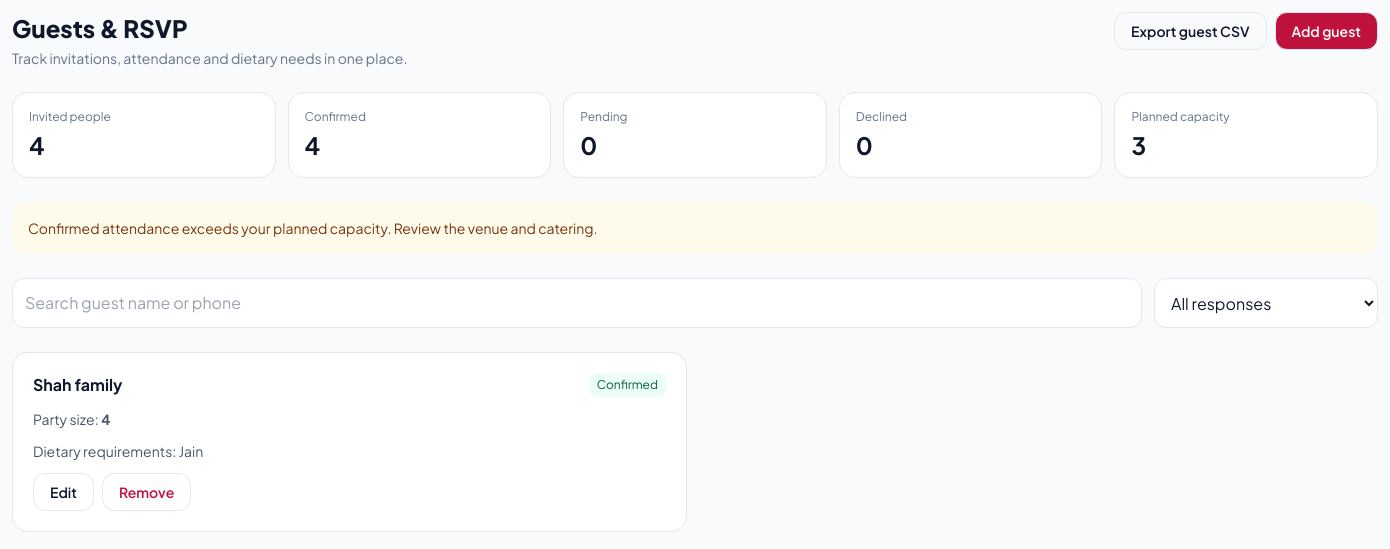
Test case: Guest workspace › shows capacity warnings and filters guests by search and RSVP
This screenshot has width=1390, height=549.
Expected: the heading "Shah family" is shown, [33,373,122,397]
Expected: the text "Confirmed attendance exceeds" is shown, [28,219,598,237]
Type "Missing" into the search field at x=577, y=303, box [12,278,1142,328]
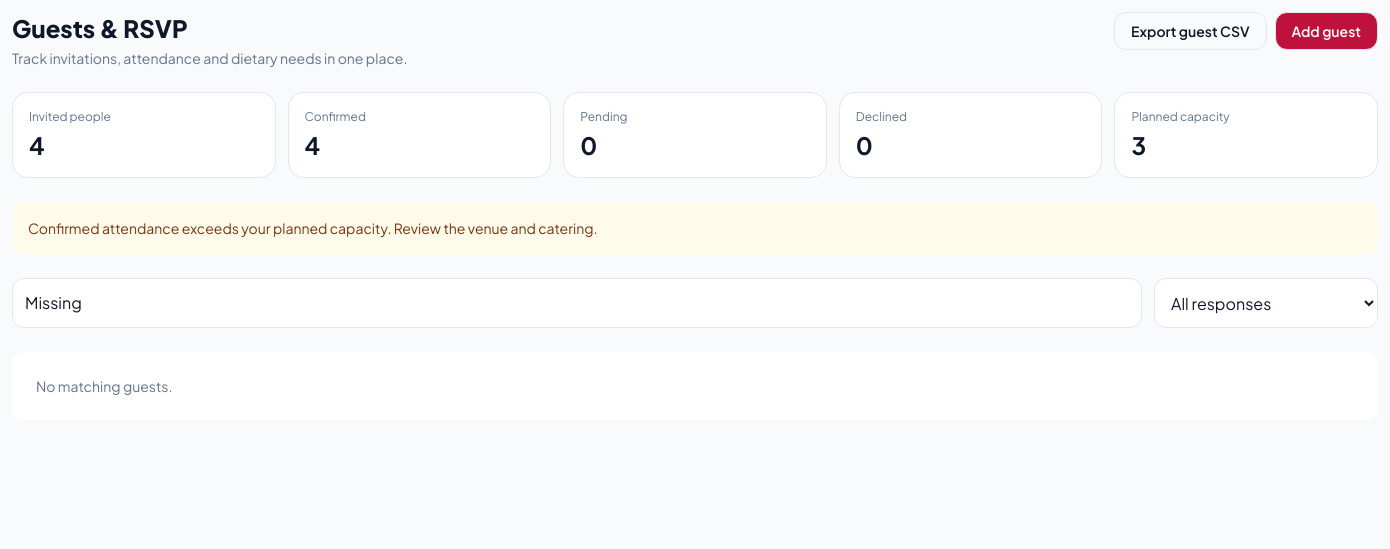
Now the text "No matching guests." is shown, box [12,352,1378,420]
Clear the search field at x=577, y=303, box [12,278,1142,328]
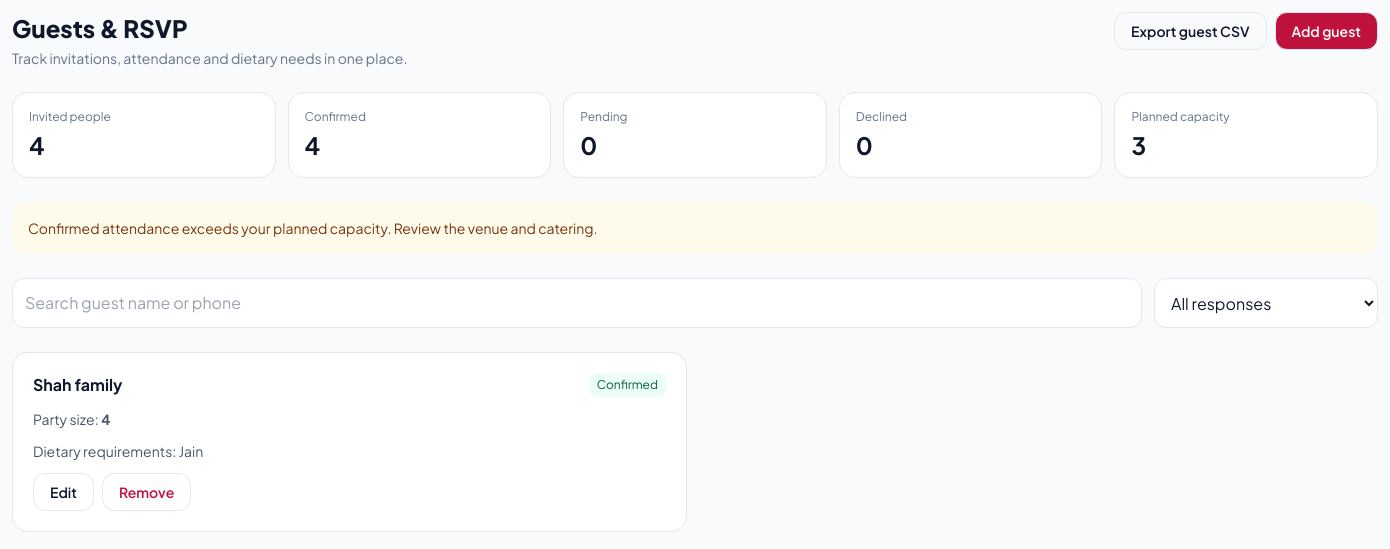
Select "Declined" in the dropdown named "RSVP status" at x=1266, y=303, box [1154,278,1378,328]
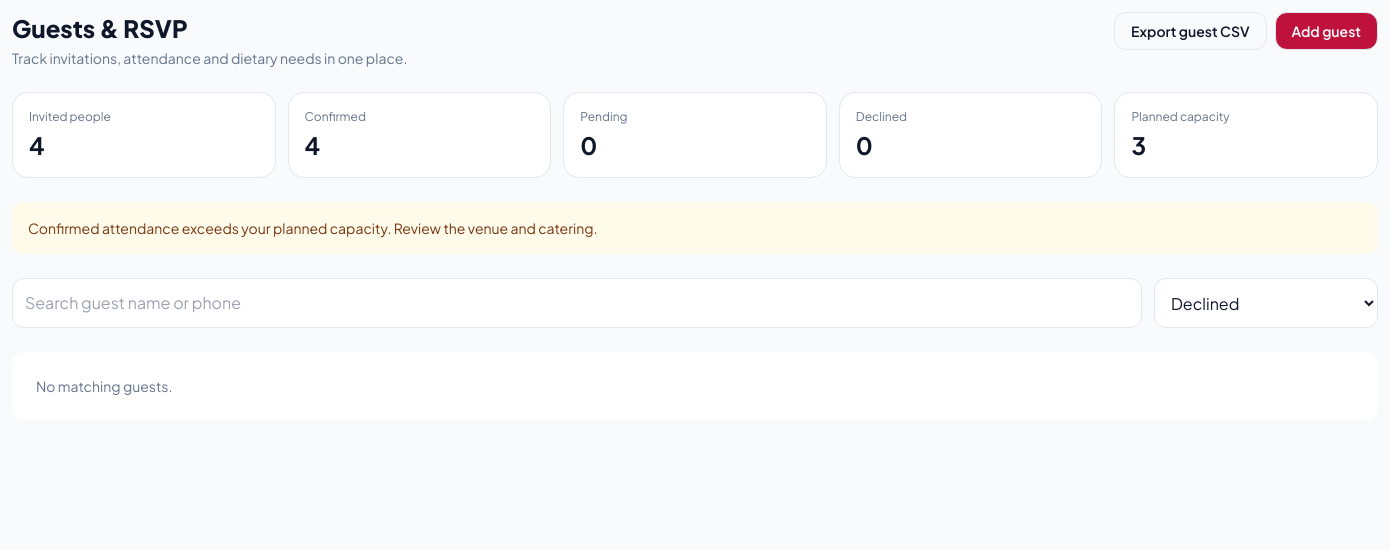
Now the heading "Shah family" is gone
